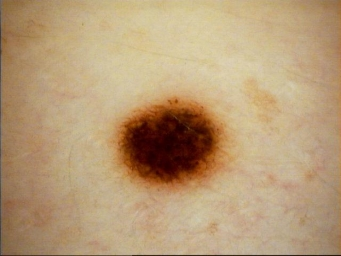melanoma: (117, 100, 221, 188)
